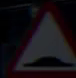Speed Breaker ahead: (10, 11, 65, 70)
